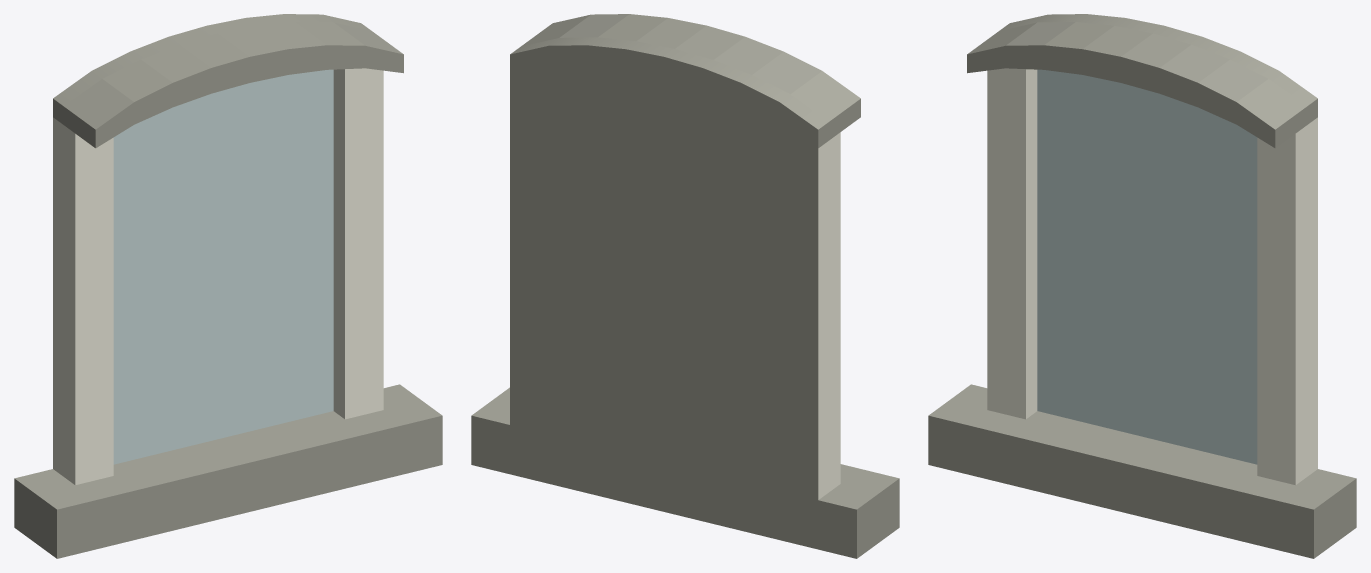
The model's file is Ventana (con FBX).fbx.
3 renders of one model, left to right at view 1: azimuth 30°, elevation 25°; view 2: azimuth 150°, elevation 25°; view 3: azimuth 330°, elevation 25°, orthographic.
Parts seen in each view (by area): view 1: pCube1; view 2: pCube1; view 3: pCube1.
Part boxes in pixels (box(x1,y1,x2,y2)): pCube1: box(14, 14, 442, 558); pCube1: box(471, 14, 899, 558); pCube1: box(928, 14, 1356, 558).
Size of the model in its own units: 2.5 by 2.82 by 0.48.
